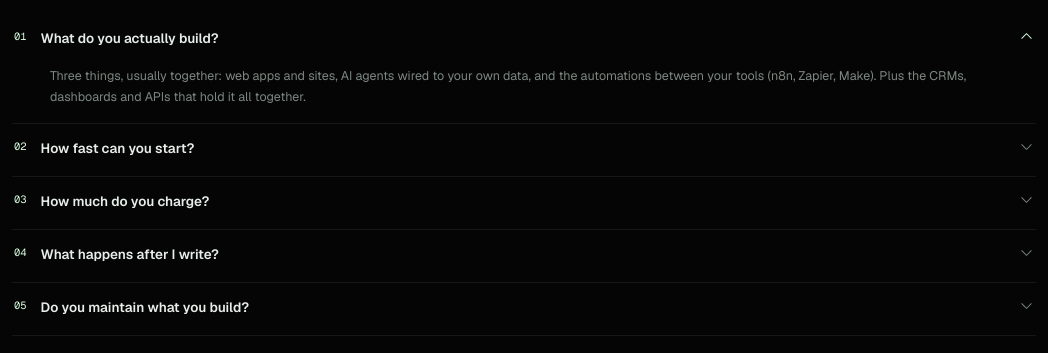
Test: Faqs › opens Kraft's first answer, and one at a time after that
Expected: the text "Three things, usually together: web apps and sites, AI agents wired to your own data, and the automations between your t" is shown, [50, 67, 966, 105]
Click the button "02 How fast can you start?": (117, 148) [12, 124, 1036, 176]
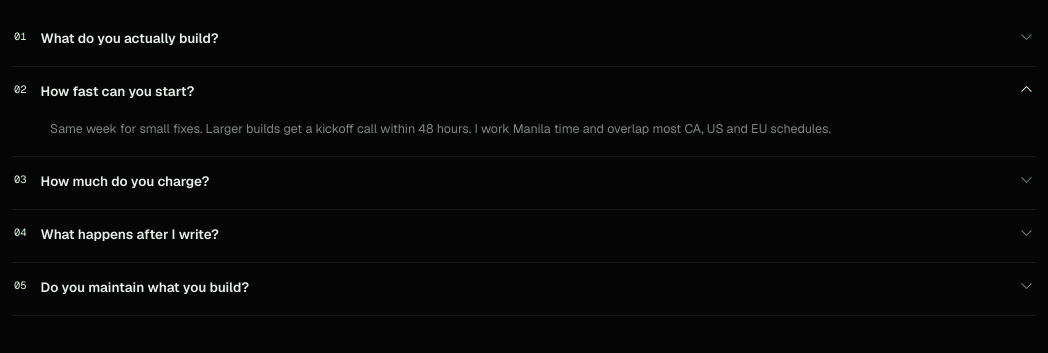
Now the button "02 How fast can you start?" is expanded
Now the button "01 What do you actually build?" is collapsed, box [12, 14, 1036, 66]
Click the button "02 How fast can you start?": (117, 91) [12, 67, 1036, 119]
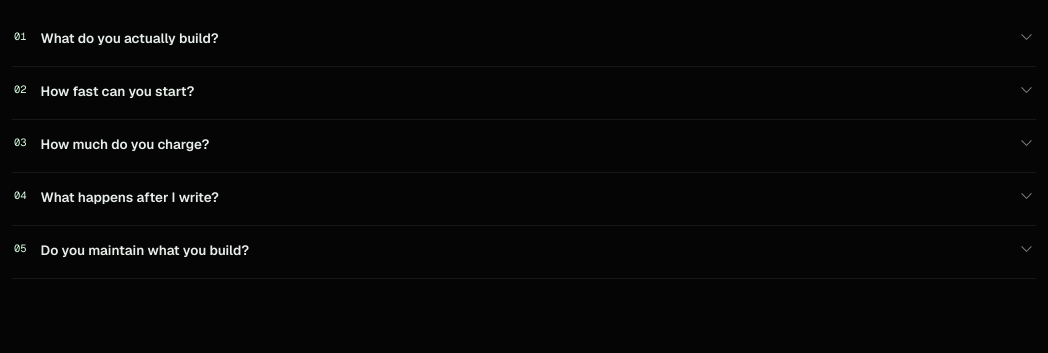
Now the button "02 How fast can you start?" is collapsed, box [12, 67, 1036, 119]
